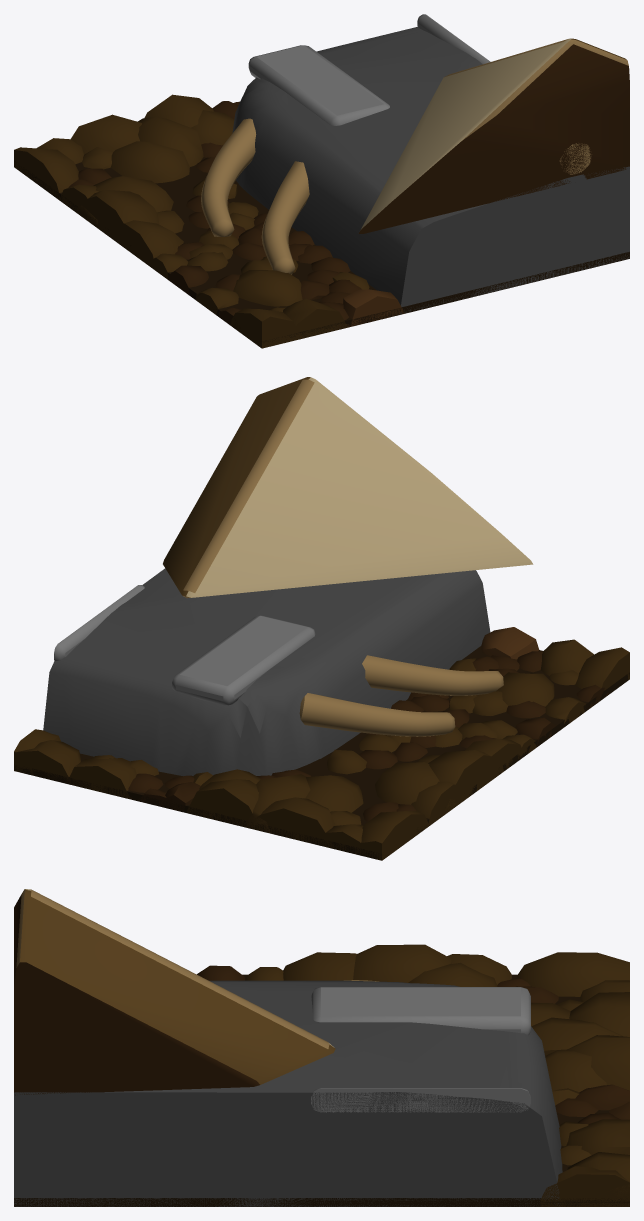
File: gold_pyramid_tl.glb
The picture shows the model from 3 angles, top to bottom: view 1: azimuth 30°, elevation 25°; view 2: azimuth 150°, elevation 25°; view 3: azimuth 270°, elevation 25°; orthographic projection. The views are drawn at different scales.
Visible parts, largest first — view 1: housing, pyramid, dirt_base, panel-12, horn0, horn1, dirt_48, dirt_115, dirt_58, dirt_41, dirt_24, dirt_25 (+17 smaller); view 2: housing, pyramid, dirt_base, panel-12, horn0, horn1, dirt_14, dirt_42, dirt_58, dirt_57, dirt_75, dirt_115 (+16 smaller); view 3: housing, pyramid, panel-12, dirt_base, panel-0, dirt_58, dirt_59, dirt_115, dirt_42, dirt_28, dirt_14, dirt_24 (+12 smaller).
Boxes of the visible parts, left/top/right/bottom form: housing: left=232, top=26, right=629, bottom=314; pyramid: left=358, top=38, right=629, bottom=233; dirt_base: left=14, top=157, right=629, bottom=343; panel-12: left=248, top=45, right=389, bottom=125; horn0: left=201, top=118, right=256, bottom=236; horn1: left=261, top=161, right=309, bottom=274; dirt_48: left=111, top=141, right=189, bottom=183; dirt_115: left=81, top=189, right=159, bottom=255; dirt_58: left=14, top=147, right=78, bottom=200; dirt_41: left=233, top=270, right=302, bottom=306; dirt_24: left=108, top=220, right=183, bottom=270; dirt_25: left=230, top=308, right=303, bottom=348; housing: left=43, top=568, right=490, bottom=776; pyramid: left=163, top=377, right=533, bottom=598; dirt_base: left=14, top=646, right=629, bottom=860; panel-12: left=172, top=615, right=315, bottom=705; horn0: left=299, top=693, right=455, bottom=736; horn1: left=362, top=655, right=503, bottom=695; dirt_14: left=244, top=797, right=335, bottom=849; dirt_42: left=186, top=779, right=261, bottom=830; dirt_58: left=354, top=811, right=428, bottom=860; dirt_57: left=375, top=762, right=468, bottom=816; dirt_75: left=67, top=758, right=136, bottom=799; dirt_115: left=428, top=750, right=503, bottom=802; housing: left=14, top=980, right=562, bottom=1206; pyramid: left=14, top=889, right=335, bottom=1095; panel-12: left=311, top=987, right=530, bottom=1035; dirt_base: left=14, top=974, right=629, bottom=1206; panel-0: left=311, top=1088, right=530, bottom=1112; dirt_58: left=516, top=952, right=629, bottom=996; dirt_59: left=540, top=1166, right=629, bottom=1206; dirt_115: left=353, top=944, right=451, bottom=982; dirt_42: left=566, top=1035, right=629, bottom=1090; dirt_28: left=545, top=1049, right=606, bottom=1092; dirt_14: left=569, top=992, right=629, bottom=1036; dirt_24: left=283, top=952, right=356, bottom=980.
Bounding box in the file's own units: 24 × 14.27 × 28.
